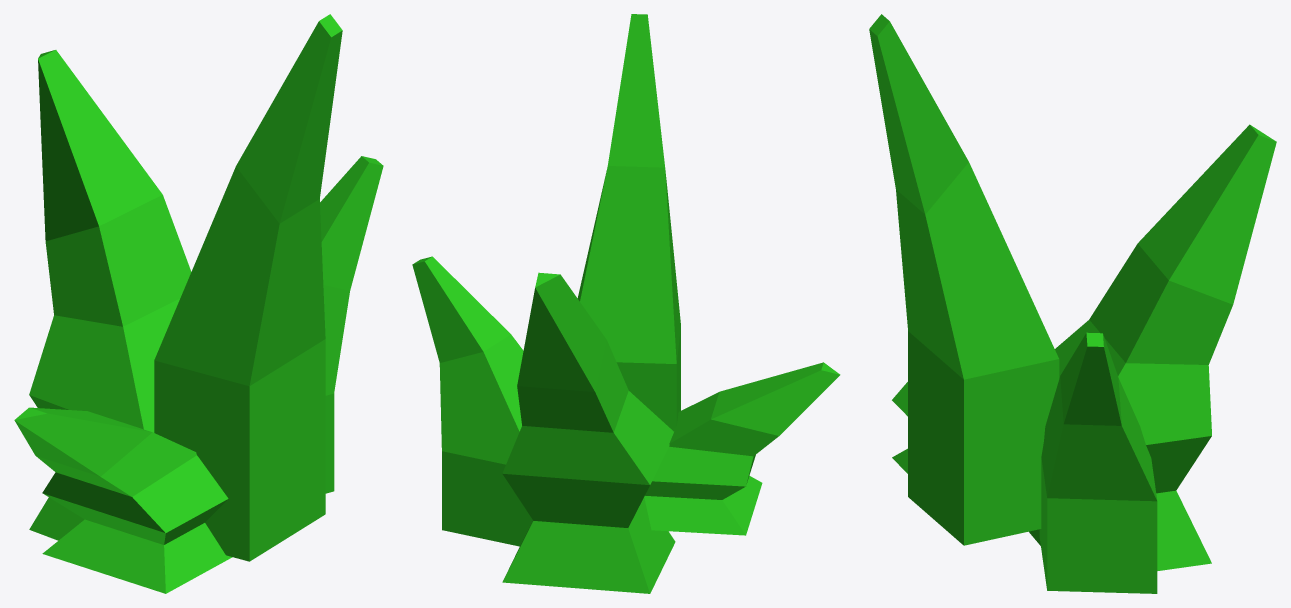
File: Grass_T1.fbx
3 views of the same model, side by side, from view 1: azimuth 30°, elevation 25°; view 2: azimuth 150°, elevation 25°; view 3: azimuth 270°, elevation 25° (orthographic). The views are drawn at different scales.
Visible parts, largest first — view 1: Grass_T1; view 2: Grass_T1; view 3: Grass_T1.
Part boxes in pixels (bbox=[...]): Grass_T1: bbox=[14, 14, 383, 593]; Grass_T1: bbox=[412, 14, 840, 593]; Grass_T1: bbox=[869, 14, 1276, 593].
Size of the model in its own units: 32.99 by 40.81 by 27.57.
